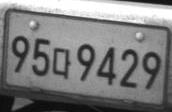2: (118, 48, 139, 88)
4: (96, 45, 116, 86)
5: (31, 37, 50, 76)
9: (141, 50, 162, 90), (76, 42, 95, 82), (10, 35, 30, 72)
다: (52, 47, 72, 79)
